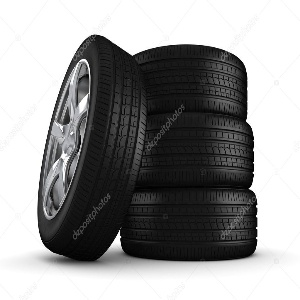tire: (29, 31, 149, 262), (116, 182, 261, 260), (115, 117, 260, 192), (119, 43, 254, 119)
